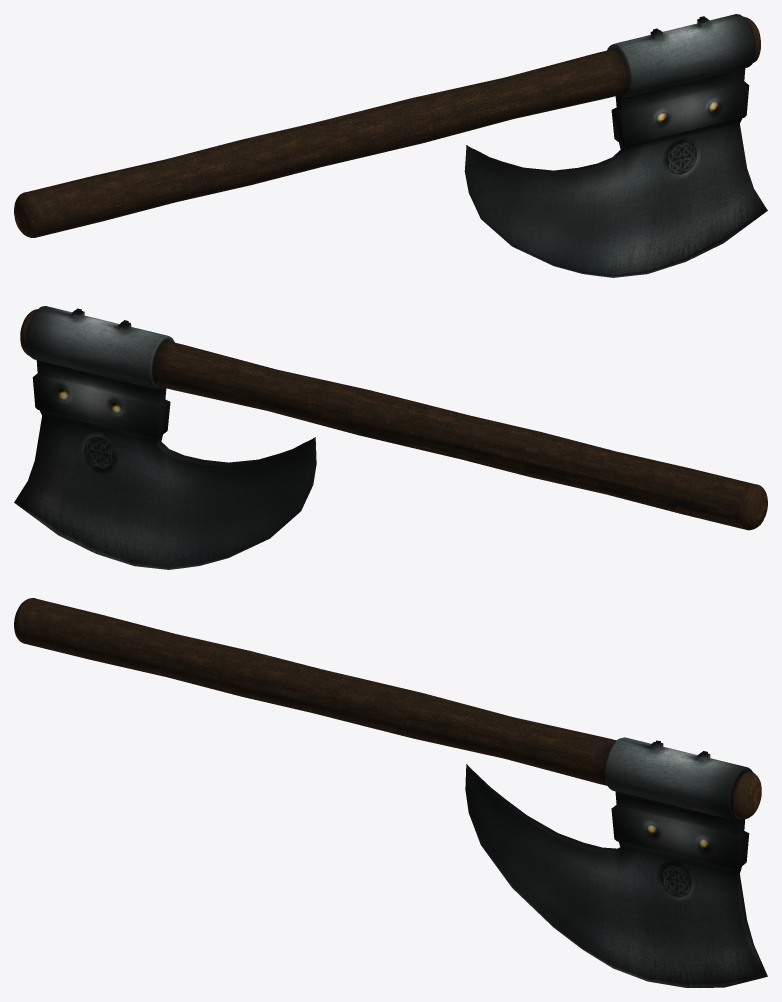
File: Axe.fbx
3 views of the same model, one above another, from view 1: azimuth 30°, elevation 25°; view 2: azimuth 150°, elevation 25°; view 3: azimuth 330°, elevation 25° (orthographic).
Visible parts, largest first — view 1: AxeBlade, AxeHandle; view 2: AxeBlade, AxeHandle; view 3: AxeBlade, AxeHandle.
Boxes of the visible parts, x1,y1,x2,y2 form: AxeBlade: (464, 14, 767, 277); AxeHandle: (14, 17, 760, 237); AxeBlade: (14, 306, 316, 569); AxeHandle: (20, 309, 767, 530); AxeBlade: (465, 737, 767, 987); AxeHandle: (14, 598, 761, 819).
Bounding box in the file's own units: 220 × 68.12 × 13.55.
